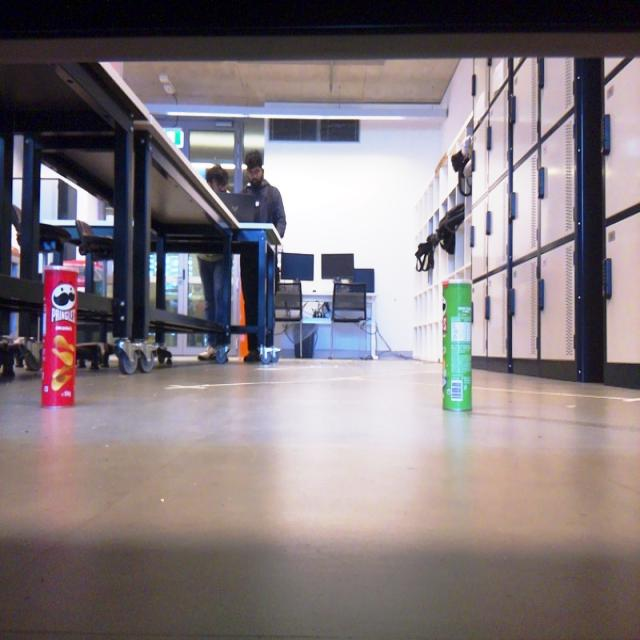greenpringles: (436, 277, 478, 418)
redpringles: (39, 260, 83, 414)
